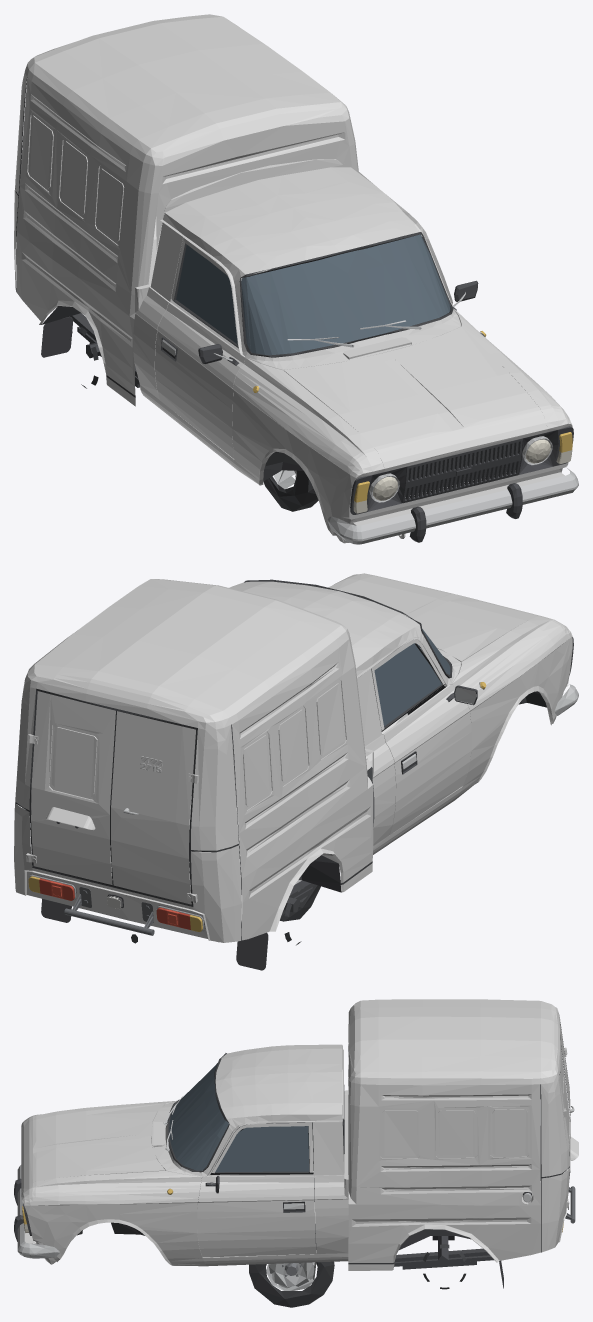
Rendered from kabluk.glb.
3 views of the same model, one above another, from view 1: azimuth 30°, elevation 25°; view 2: azimuth 150°, elevation 25°; view 3: azimuth 270°, elevation 25° (orthographic). The views are drawn at different scales.
Parts seen in each view (by area): view 1: paint, detail, lights, wheel; view 2: paint, detail, lights; view 3: paint, detail, wheel.
Part boxes in pixels (box(x1,y1,x2,y2)): paint: box(14, 14, 572, 543); detail: box(15, 77, 578, 544); lights: box(253, 331, 572, 513); wheel: box(263, 470, 318, 511); paint: box(14, 573, 572, 942); detail: box(15, 579, 578, 970); lights: box(28, 665, 571, 931); paint: box(21, 999, 578, 1270); detail: box(14, 1022, 575, 1289); wheel: box(249, 1261, 334, 1307).
Size of the model in its own units: 1.83 by 2.25 by 4.17.
